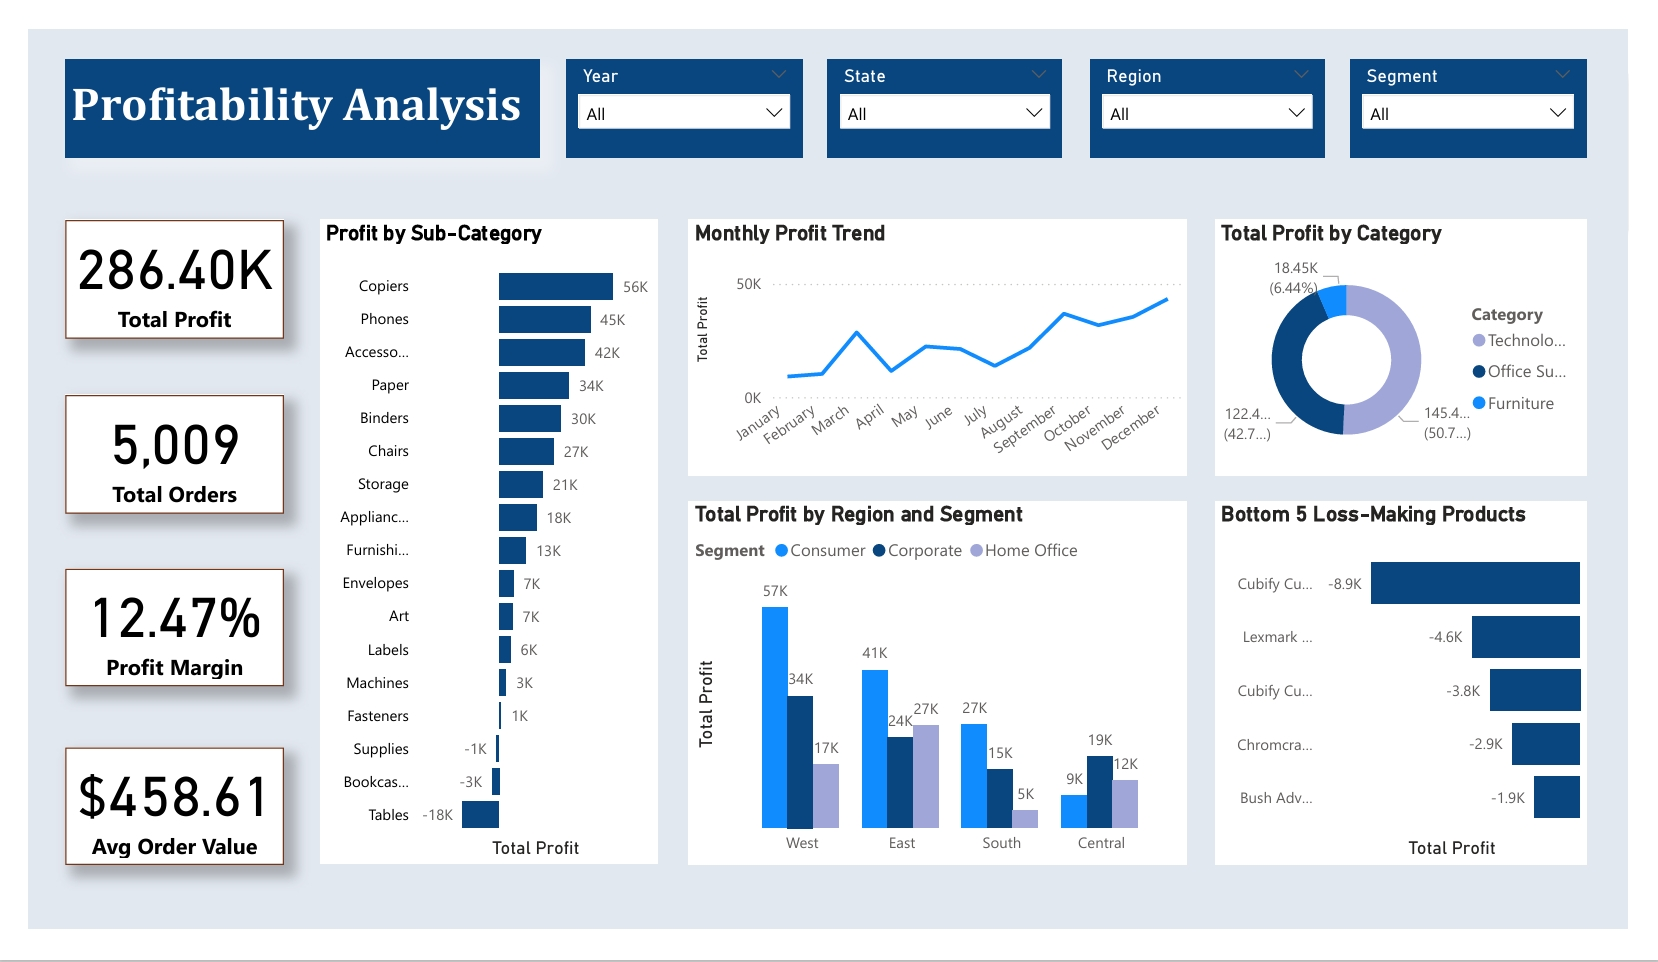

The page's visual inventory and layout, read from the dashboard file:
{"tool":"powerbi","page":{"name":"Profitability Analysis","canvas":[1280,720],"ordinal":2},"visuals":[{"type":"card","fields":{"Values":["Orders1.Avg Order Value"]},"box":[28.6,573.6,175.7,94.3],"z":0},{"type":"card","fields":{"Values":["Orders1.Total Orders"]},"box":[28.6,292.2,175.7,94.3],"z":1000},{"type":"card","fields":{"Values":["Orders1.Total Profit"]},"box":[28.6,152.2,175.7,94.3],"z":2000},{"type":"slicer","fields":{"Values":["Orders1.State"]},"box":[638.6,24.3,188.6,78.6],"z":3000},{"type":"slicer","fields":{"Values":["Orders1.Region"]},"box":[848.6,24.3,188.6,78.6],"z":4000},{"type":"slicer","fields":{"Values":["Orders1.Segment"]},"box":[1057.1,24.3,188.6,78.6],"z":5000},{"type":"clusteredBarChart","title":"Profit by Sub-Category","fields":{"Category":["Orders1.Sub-Category","Orders1.Product Name"],"Y":["Orders1.Total Profit"]},"box":[232.9,152.2,270,515.7],"z":6000},{"type":"textbox","box":[28.6,24.3,380,78.6],"z":7000},{"type":"lineChart","title":"Monthly Profit Trend","fields":{"Category":["Orders1.Order Date.Variation.Date Hierarchy.Month"],"Y":["Orders1.Total Profit"]},"box":[528.1,152.2,398.6,204.3],"z":8000},{"type":"clusteredColumnChart","fields":{"Category":["Orders1.Region"],"Y":["Orders1.Total Profit"],"Series":["Orders1.Segment"]},"box":[528.1,376.5,398.6,291.4],"z":9000},{"type":"donutChart","fields":{"Y":["Orders1.Total Profit"],"Category":["Orders1.Category"]},"box":[948.6,152.2,297.1,204.3],"z":10000},{"type":"slicer","fields":{"Values":["Orders1.Order Date.Variation.Date Hierarchy.Year"]},"box":[430,24.3,188.6,78.6],"z":11000},{"type":"card","fields":{"Values":["Orders1.Profit Margin"]},"box":[28.6,430.8,175.7,94.3],"z":12000},{"type":"clusteredBarChart","title":"Bottom 5 Loss-Making Products","fields":{"Category":["Orders1.Product Name"],"Y":["Orders1.Total Profit"]},"box":[948.6,376.5,297.1,291.4],"z":13000}]}

Visuals, with their boxes on the page's 1280x720 design canvas (x1, y1, x2, y2). These are canvas units, not pixel positions in the 1658x962 screenshot, which may show the page scaled, cropped or inside an application window:
card - Orders1.Avg Order Value: (left=29, top=574, right=204, bottom=668)
card - Orders1.Total Orders: (left=29, top=292, right=204, bottom=386)
card - Orders1.Total Profit: (left=29, top=152, right=204, bottom=246)
slicer - Orders1.State: (left=639, top=24, right=827, bottom=103)
slicer - Orders1.Region: (left=849, top=24, right=1037, bottom=103)
slicer - Orders1.Segment: (left=1057, top=24, right=1246, bottom=103)
"Profit by Sub-Category" clusteredBarChart: (left=233, top=152, right=503, bottom=668)
textbox: (left=29, top=24, right=409, bottom=103)
"Monthly Profit Trend" lineChart: (left=528, top=152, right=927, bottom=356)
clusteredColumnChart - Orders1.Region x Orders1.Total Profit: (left=528, top=376, right=927, bottom=668)
donutChart - Orders1.Total Profit x Orders1.Category: (left=949, top=152, right=1246, bottom=356)
slicer - Orders1.Order Date.Variation.Date Hierarchy.Year: (left=430, top=24, right=619, bottom=103)
card - Orders1.Profit Margin: (left=29, top=431, right=204, bottom=525)
"Bottom 5 Loss-Making Products" clusteredBarChart: (left=949, top=376, right=1246, bottom=668)
